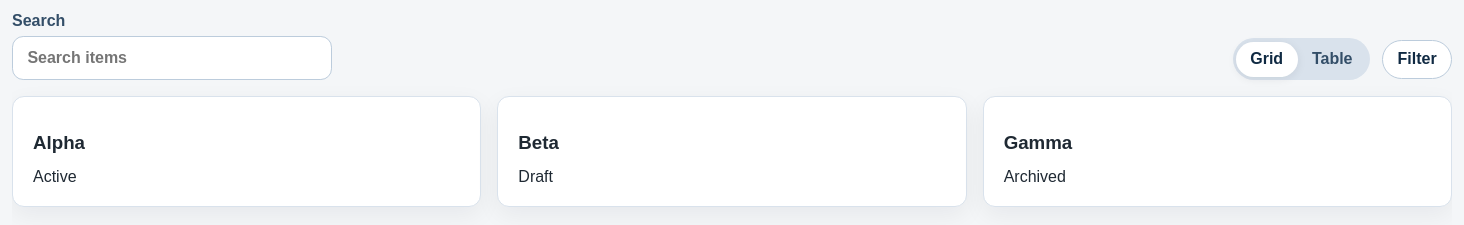
Test: DataViewComponent Phase 1 filtering › preserves existing search behavior
The width and height of the screenshot is (1464, 225).
Type "Beta" into the search field labelled "Search" at (172, 58), box 12,36 -> 332,80
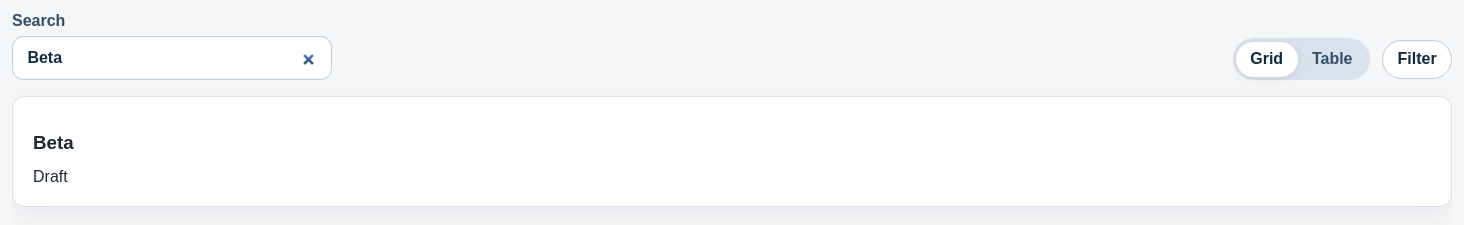
Expected: the text "Beta" is shown, 33,132 -> 74,153
Now the number of elements with class "data-view__card" is 1, box 12,96 -> 1452,207
Now the text "Alpha" is gone
